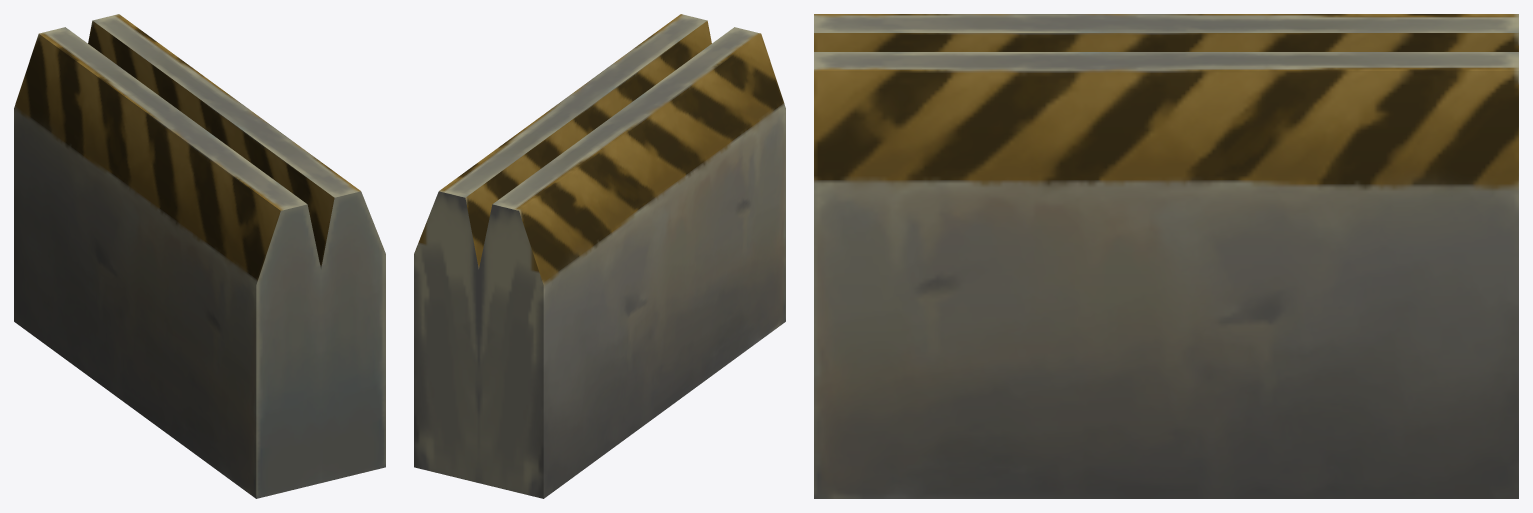
The picture shows the model from 3 angles, left to right: view 1: azimuth 30°, elevation 25°; view 2: azimuth 150°, elevation 25°; view 3: azimuth 270°, elevation 25°; orthographic projection. The views are drawn at different scales.
Parts seen in each view (by area): view 1: wj_objects_01_4; view 2: wj_objects_01_4; view 3: wj_objects_01_4.
Boxes of the visible parts, x1,y1,x2,y2 form: wj_objects_01_4: (14,14,385,498); wj_objects_01_4: (414,14,785,498); wj_objects_01_4: (814,14,1518,498).
Size of the model in its own units: 101 by 325 by 209.
